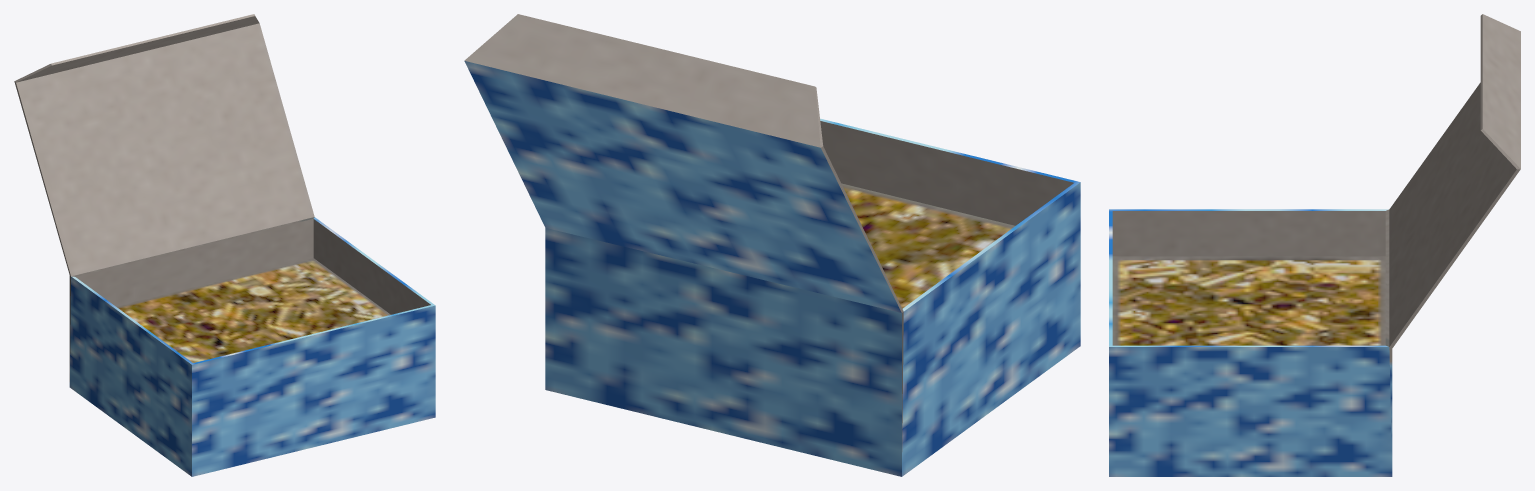
File: CasesLeadBox.fbx
3 views of the same model, side by side, from view 1: azimuth 30°, elevation 25°; view 2: azimuth 150°, elevation 25°; view 3: azimuth 270°, elevation 25° (orthographic). The views are drawn at different scales.
Visible parts, largest first — view 1: NailsBox001.001; view 2: NailsBox001.001; view 3: NailsBox001.001.
Boxes of the visible parts, <box> form: NailsBox001.001: <box>14,14,435,476</box>; NailsBox001.001: <box>464,14,1080,476</box>; NailsBox001.001: <box>1109,14,1520,476</box>.
Size of the model in its own units: 0.3454 by 0.3934 by 0.4363.
